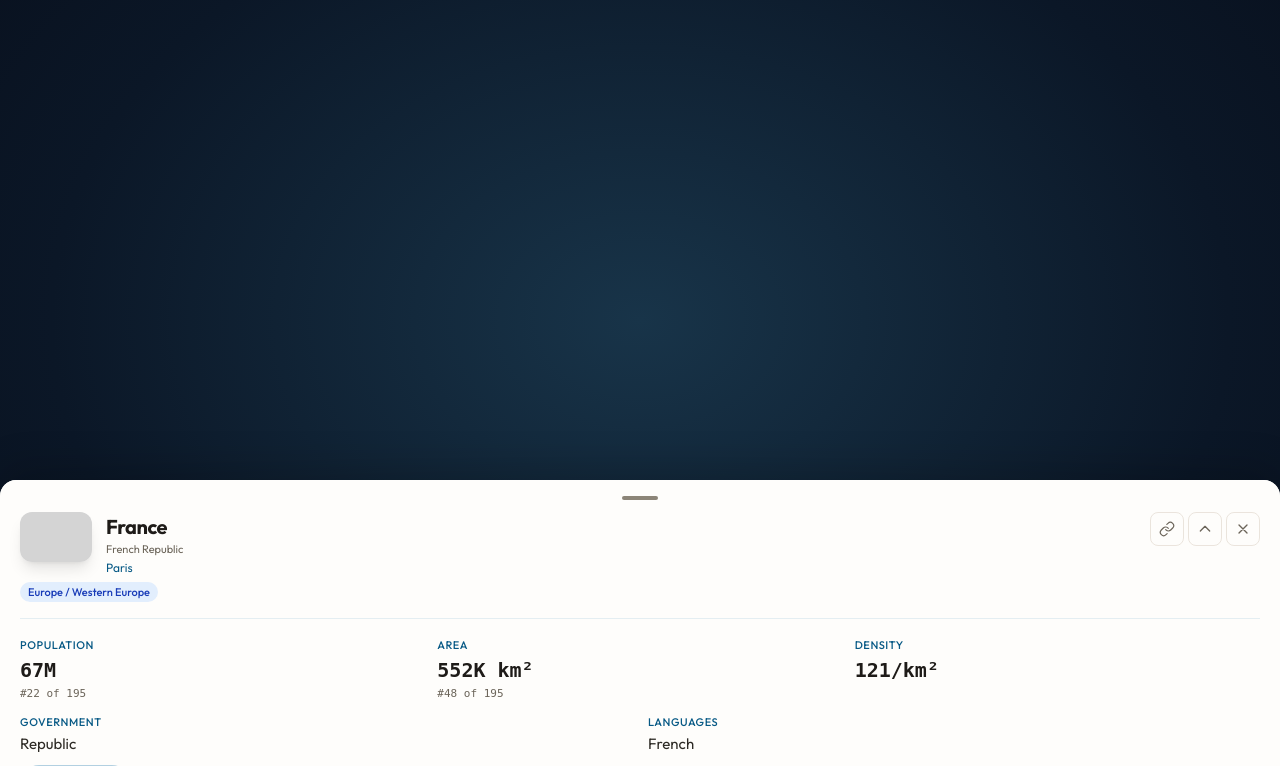
Test: SingleCountryPanel — Explore next (D3) › is secondary content: hidden in the collapsed mobile sheet, shown after Expand
The width and height of the screenshot is (1280, 766).
Click the button named "Expand panel" at (1205, 529), box [1188,512,1222,546]
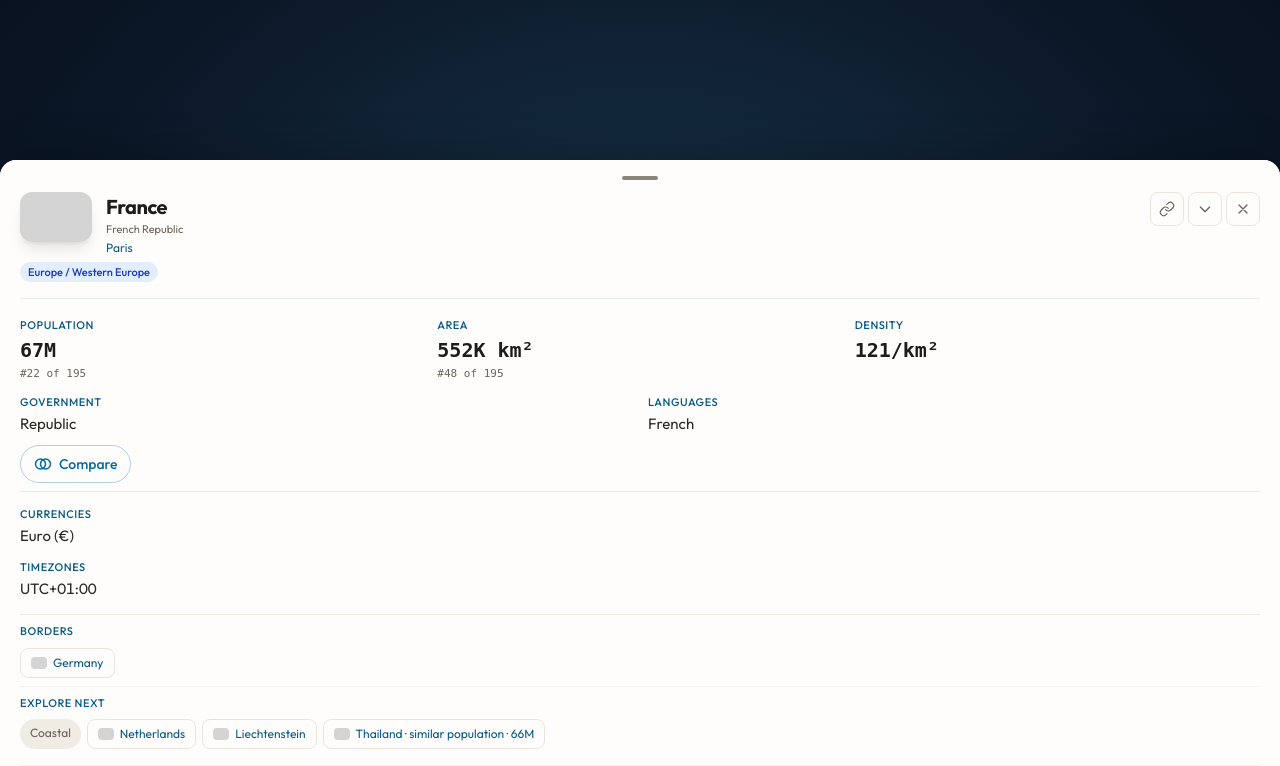
Now the element with test id "explore-next" is shown, box [20,696,545,749]
